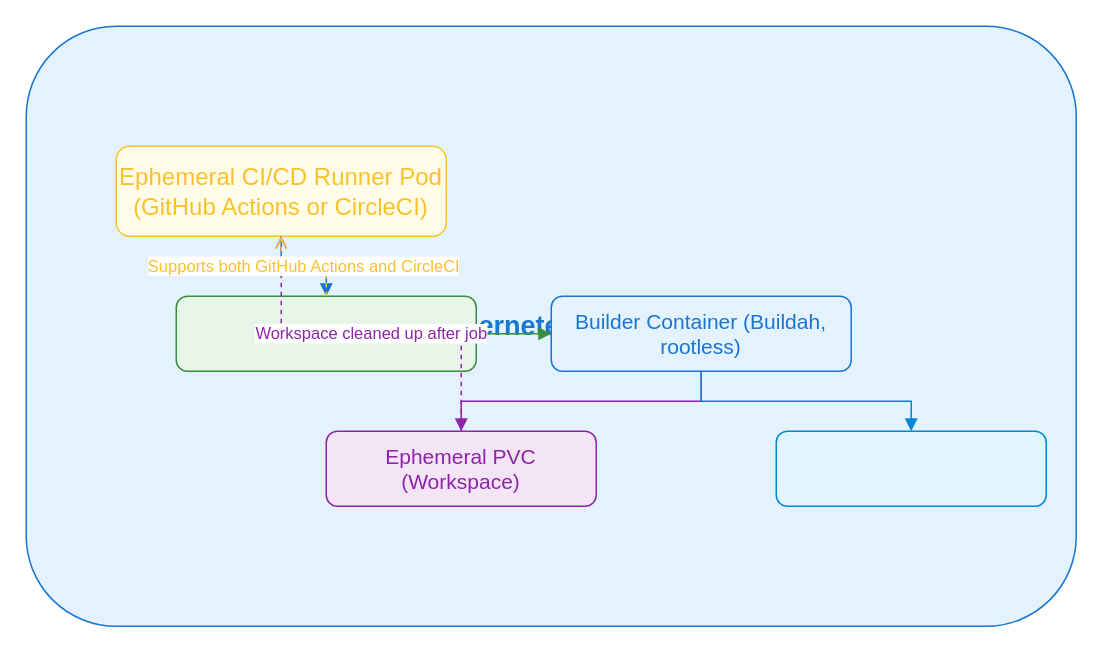
Some shapes in this 1103 by 653 pixel diagram are drawn without their labels. Here are the shapes that lost their labels. From the top down, the centre of each, then its label:
the point at 325,333: Runner Container (GitHub Actions or CircleCI)
the point at 910,468: Container Registry
